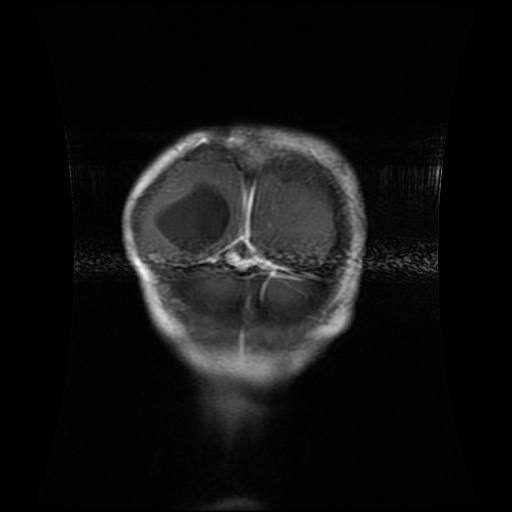glioma: (150, 179, 233, 255)
